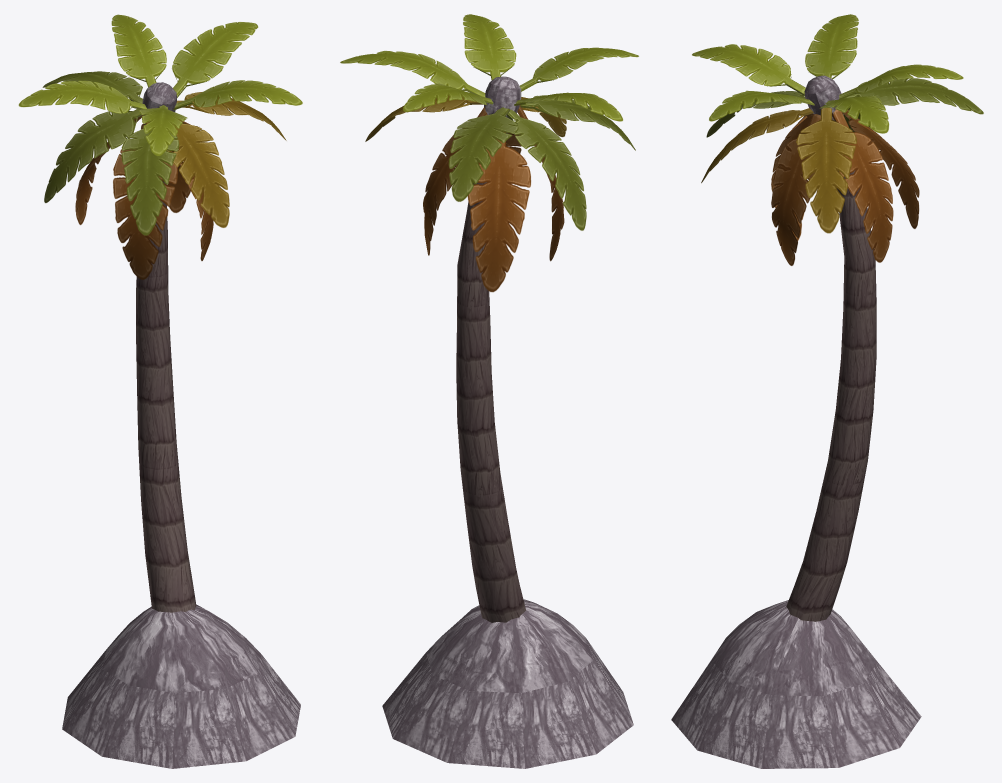
Rendered from BasePalmTree01.glb.
3 renders of one model, left to right at view 1: azimuth 30°, elevation 25°; view 2: azimuth 150°, elevation 25°; view 3: azimuth 270°, elevation 25°, orthographic. The views are drawn at different scales.
Parts seen in each view (by area): view 1: BasePalmTree01; view 2: BasePalmTree01; view 3: BasePalmTree01.
Boxes of the visible parts, box(x1,y1,x2,y2) form: BasePalmTree01: box(18, 14, 302, 768); BasePalmTree01: box(340, 14, 638, 768); BasePalmTree01: box(671, 14, 983, 768).
Size of the model in its own units: 10.82 by 25.28 by 11.08.
Materials: 2 (2 with a texture image).
